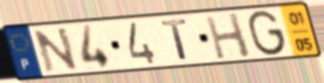4: (80, 22, 113, 71), (128, 21, 157, 66)
G: (246, 9, 288, 58)
H: (202, 11, 254, 61)
N: (30, 26, 81, 75)
T: (159, 17, 191, 62)
